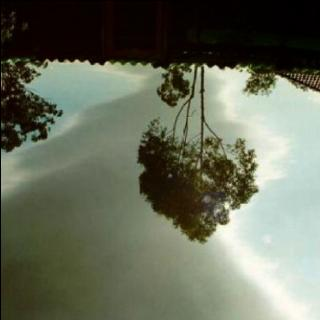Stratocumulus: (0, 69, 320, 320)
